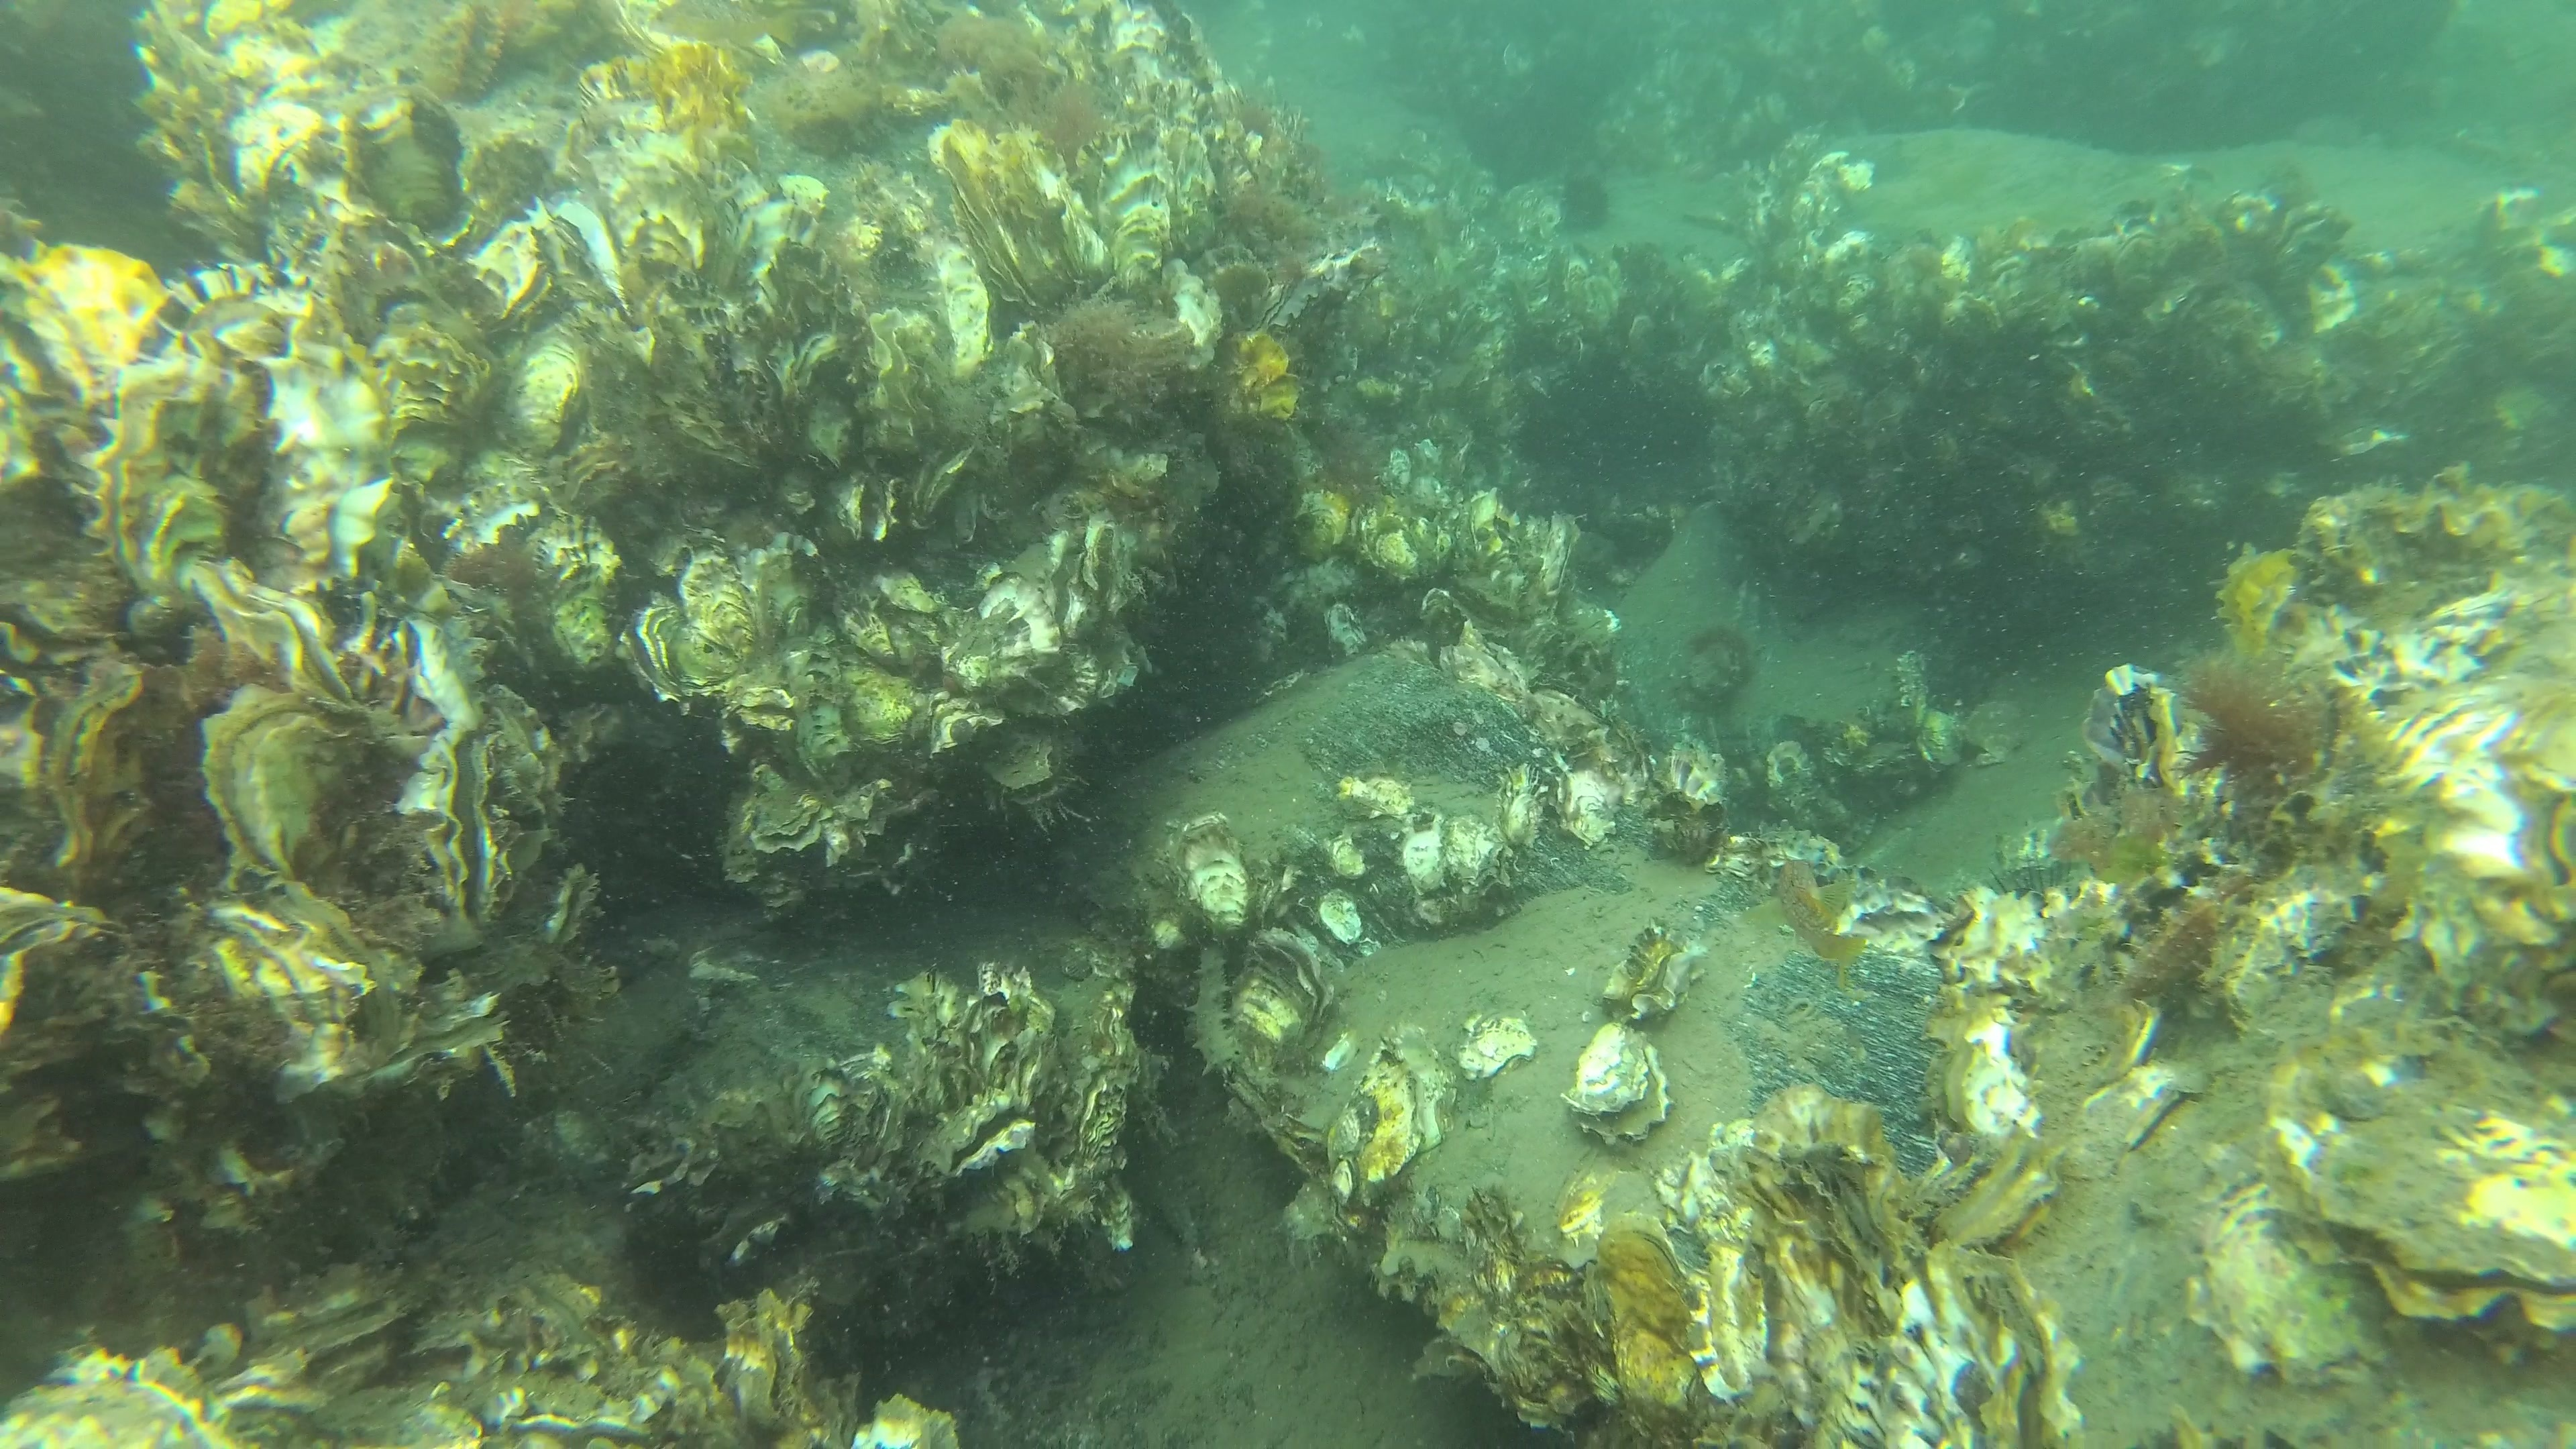echinus: (1559, 179, 1615, 237)
holothurian: (1191, 943, 1238, 1077)
